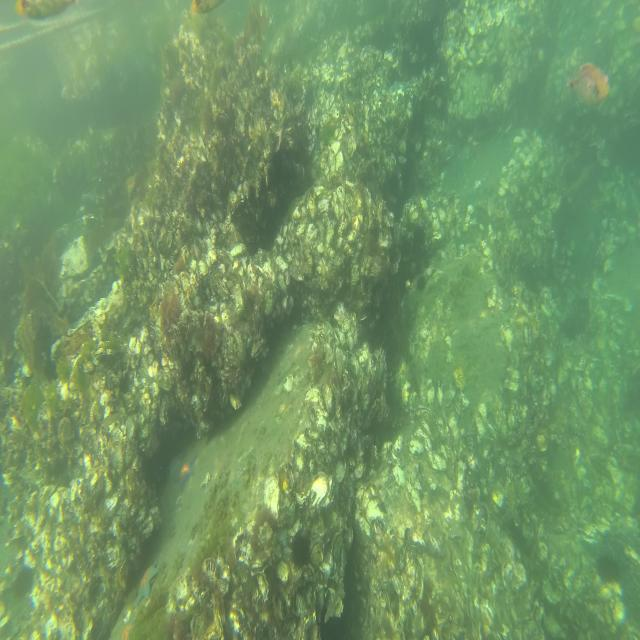echinus: (288, 527, 312, 573), (597, 556, 620, 586), (413, 226, 426, 251), (417, 277, 425, 292)
starfish: (135, 559, 160, 605), (174, 456, 197, 489)
